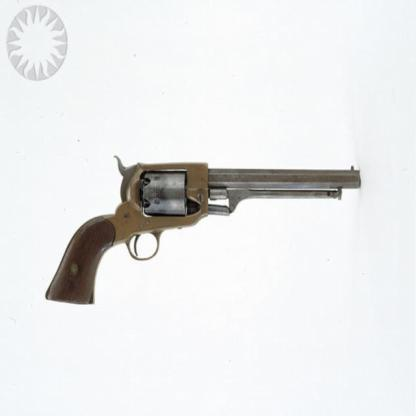weapon: (44, 153, 363, 306)
